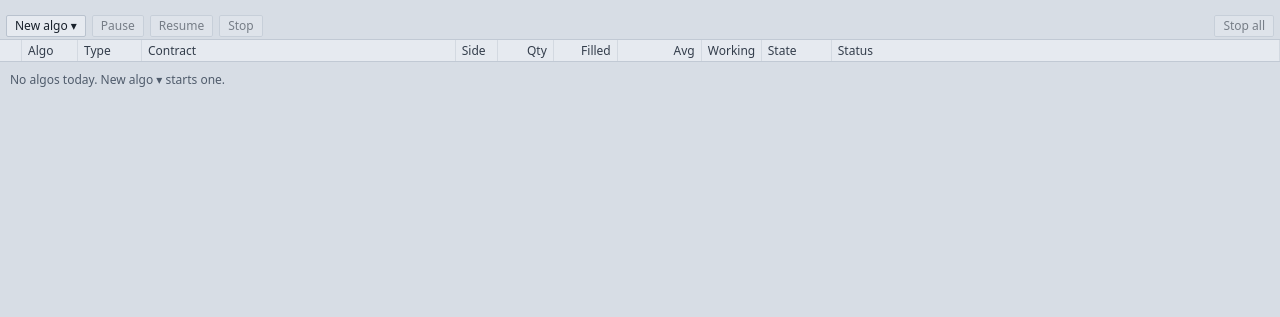
Algo manager › a refusal from the server is shown in the form
Click the button "New algo ▾" at [46, 26], box [6,14,86,36]
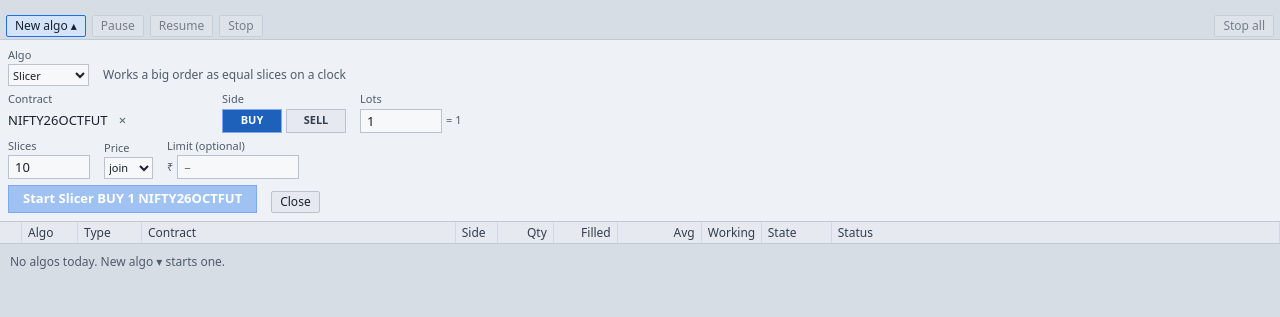
Click the button "Start Slicer BUY 1 NIFTY26OCTFUT" at [133, 199], box [8,185,257,213]
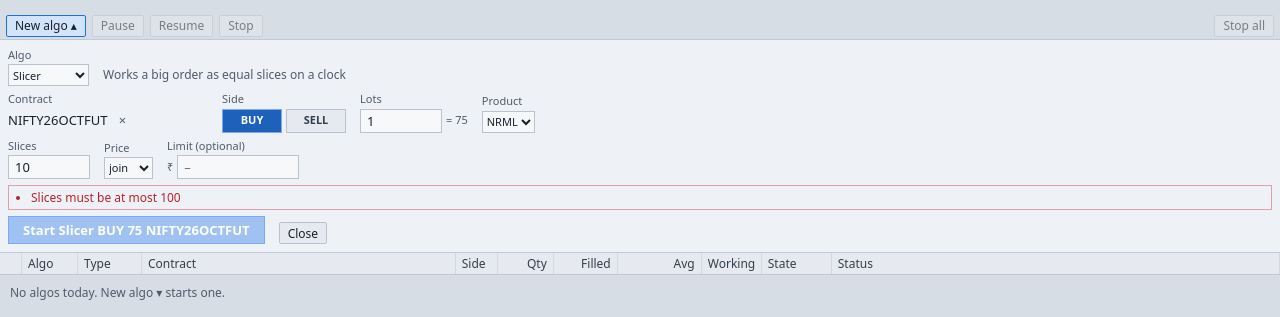
Check: the message reads "Slices must be at most 100", box [31,189,181,206]
